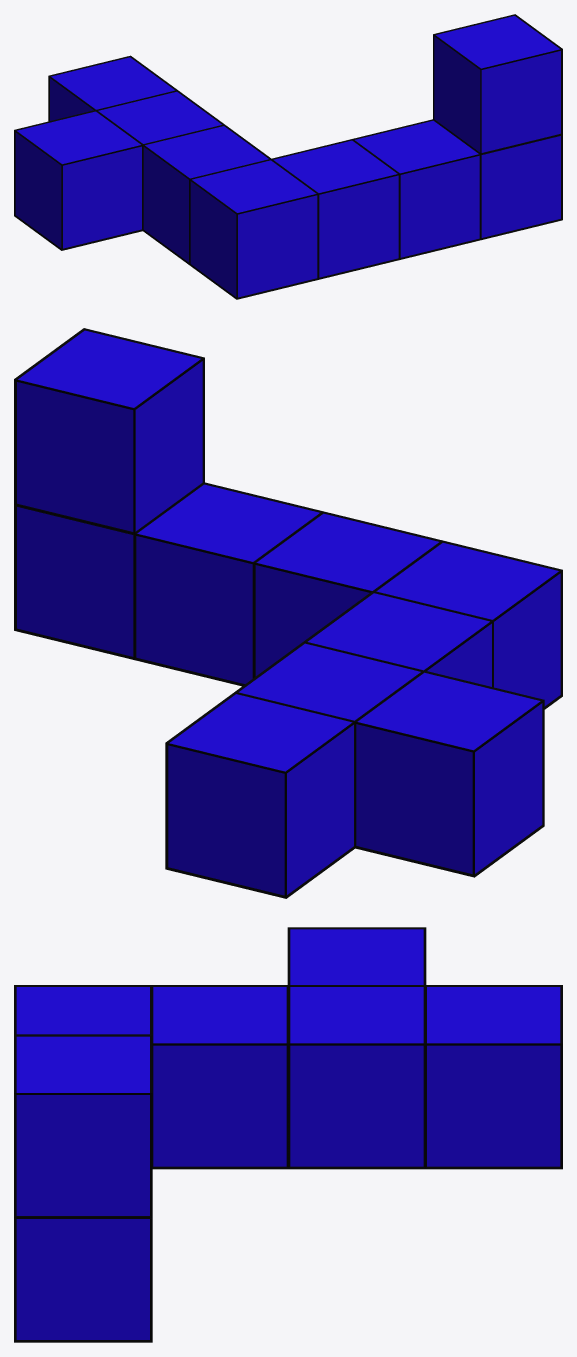
The picture shows the model from 3 angles, top to bottom: view 1: azimuth 30°, elevation 25°; view 2: azimuth 150°, elevation 25°; view 3: azimuth 270°, elevation 25°; orthographic projection. The views are drawn at different scales.
Visible parts, largest first — view 1: a1:Mesh; view 2: a1:Mesh; view 3: a1:Mesh.
Part boxes in pixels (bbox=[...]): a1:Mesh: bbox=[14, 14, 562, 299]; a1:Mesh: bbox=[14, 328, 562, 898]; a1:Mesh: bbox=[14, 927, 562, 1342].
Bounding box in the file's own units: 10.03 × 4.03 × 8.03.
